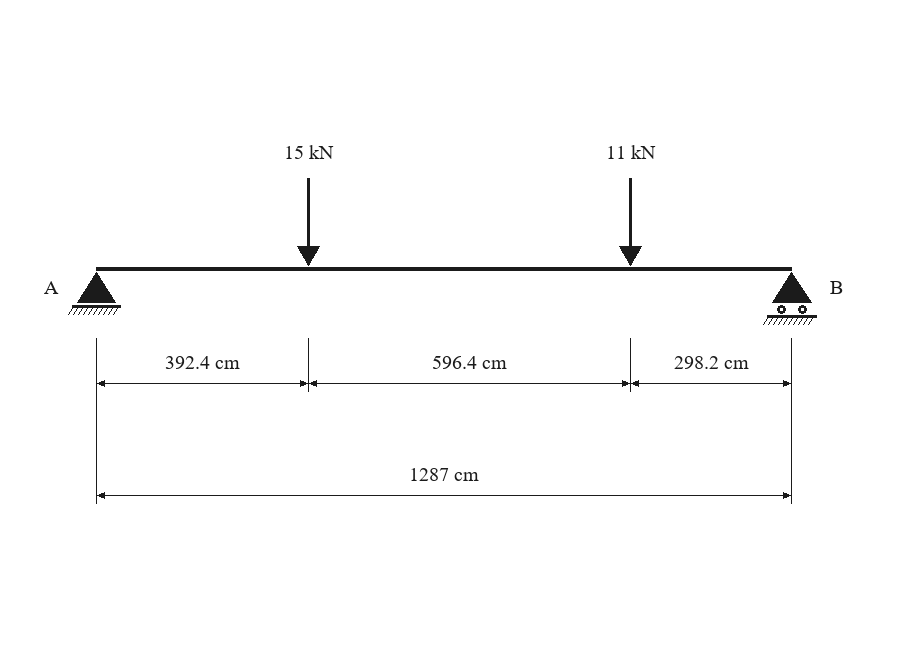pin_support: (68, 272, 121, 315)
point_load: (297, 178, 320, 266), (619, 178, 642, 266)
roller_support: (763, 272, 817, 325)
